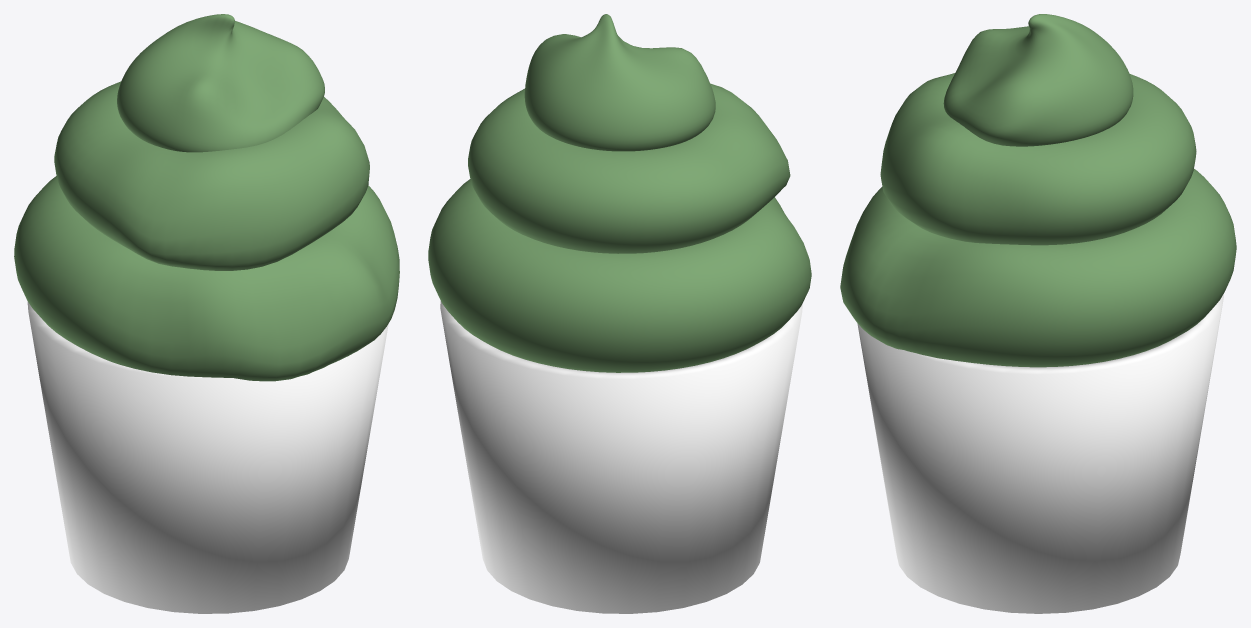
Rendered from matcha_good.glb.
3 views of the same model, side by side, from view 1: azimuth 30°, elevation 25°; view 2: azimuth 150°, elevation 25°; view 3: azimuth 270°, elevation 25° (orthographic). The views are drawn at different scales.
Visible parts, largest first — view 1: 圓柱體, 環體, 環體.001, 球體; view 2: 圓柱體, 環體, 環體.001, 球體; view 3: 圓柱體, 環體, 環體.001, 球體.
Part boxes in pixels (<box>): 圓柱體: <box>27,301,388,613</box>; 環體: <box>14,176,399,381</box>; 環體.001: <box>54,81,369,270</box>; 球體: <box>117,14,324,152</box>; 圓柱體: <box>440,301,802,613</box>; 環體: <box>428,179,811,372</box>; 環體.001: <box>468,83,790,253</box>; 球體: <box>524,14,715,151</box>; 圓柱體: <box>857,294,1223,613</box>; 環體: <box>840,169,1236,367</box>; 環體.001: <box>880,73,1196,245</box>; 球體: <box>943,14,1133,146</box>.
Bounding box in the file's own units: 2.91 × 4.46 × 2.94.
2 materials, 1 textured.
